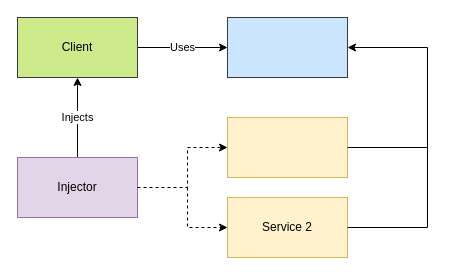
Image size: 453x275. Some labels were removed from this diagram. Each missing label, with the centre of its shape:
"Interface" goes at pixel 287 47.
"Service 1" goes at pixel 287 147.
